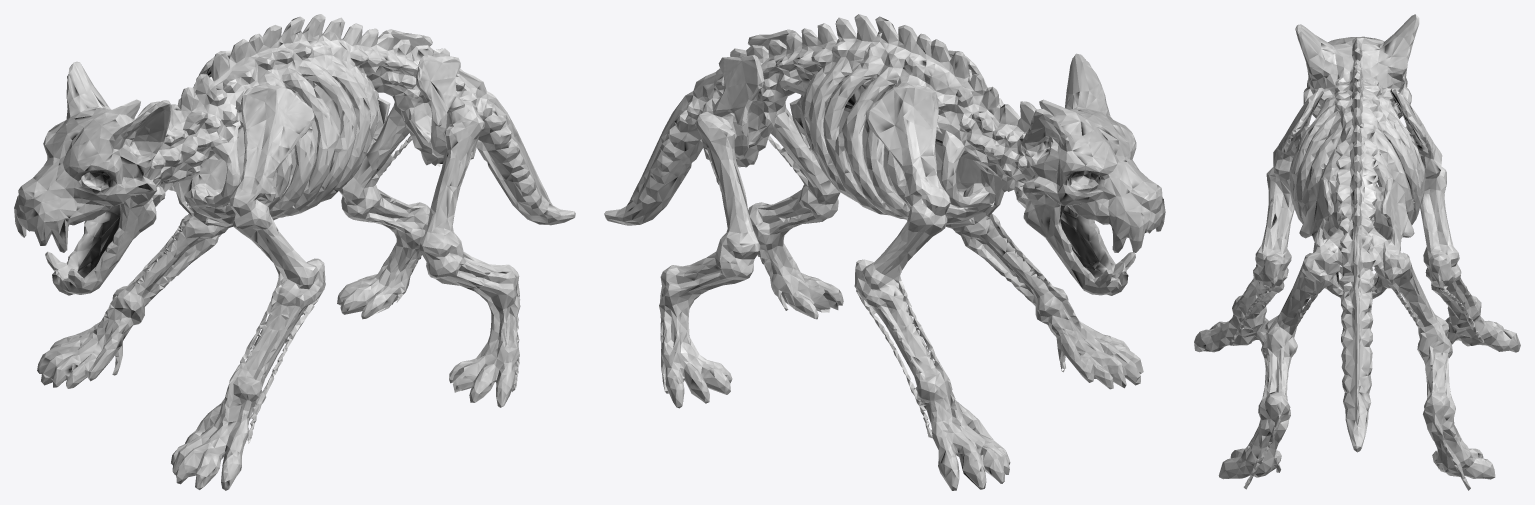
File: esqueleto_animal.glb
The picture shows the model from 3 angles, left to right: view 1: azimuth 30°, elevation 25°; view 2: azimuth 150°, elevation 25°; view 3: azimuth 270°, elevation 25°; orthographic projection. The views are drawn at different scales.
Parts seen in each view (by area): view 1: tmpxbk_dfif.ply; view 2: tmpxbk_dfif.ply; view 3: tmpxbk_dfif.ply.
Part boxes in pixels (bbox=[...]): tmpxbk_dfif.ply: bbox=[14, 14, 575, 490]; tmpxbk_dfif.ply: bbox=[604, 14, 1165, 490]; tmpxbk_dfif.ply: bbox=[1194, 14, 1520, 490].
Bounding box in the file's own units: 1.96 × 1.26 × 1.09.
Materials: 1 (1 with a texture image).
